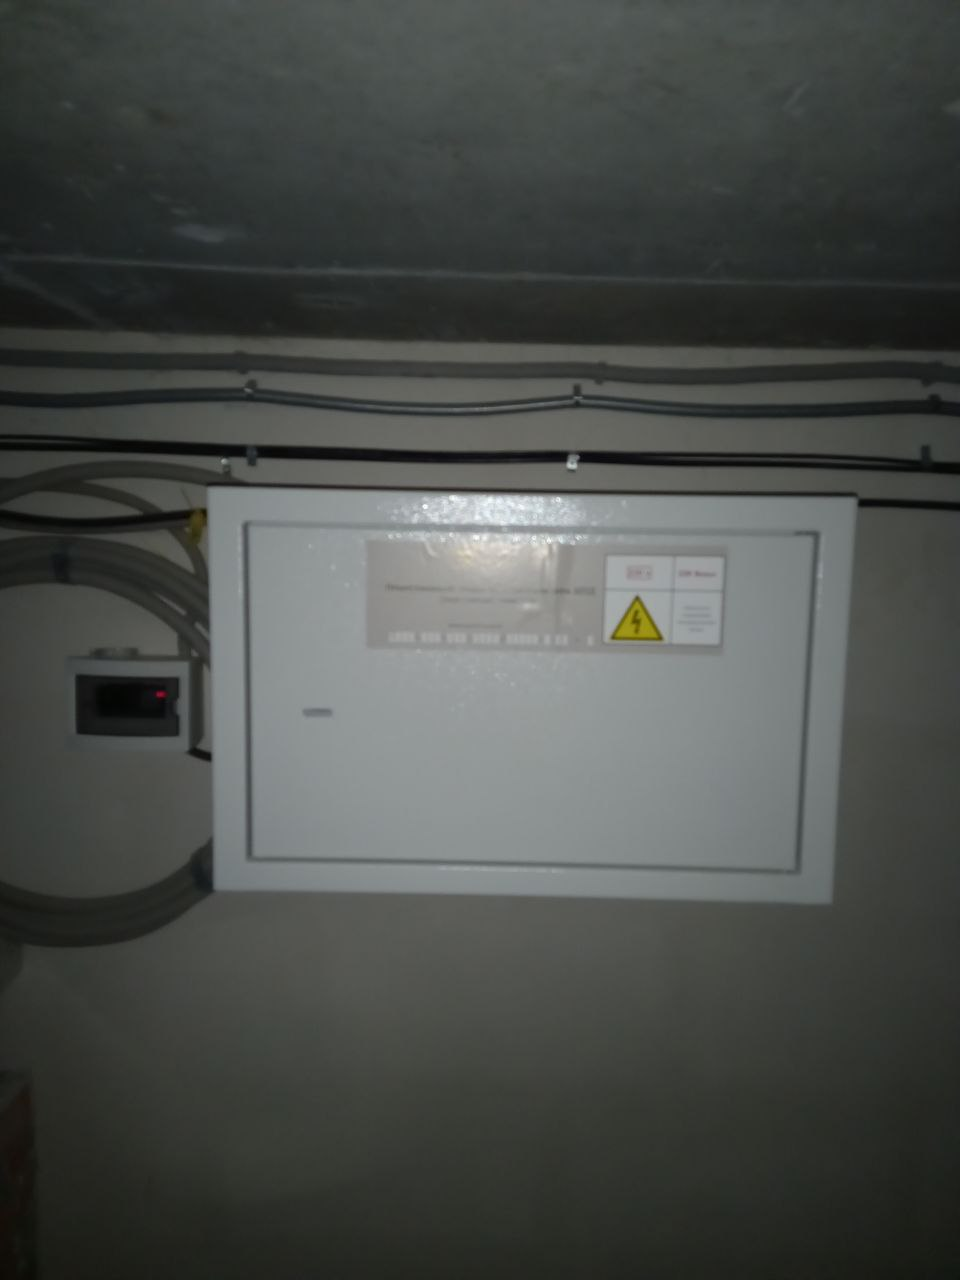shta-7m: (191, 469, 869, 921)
